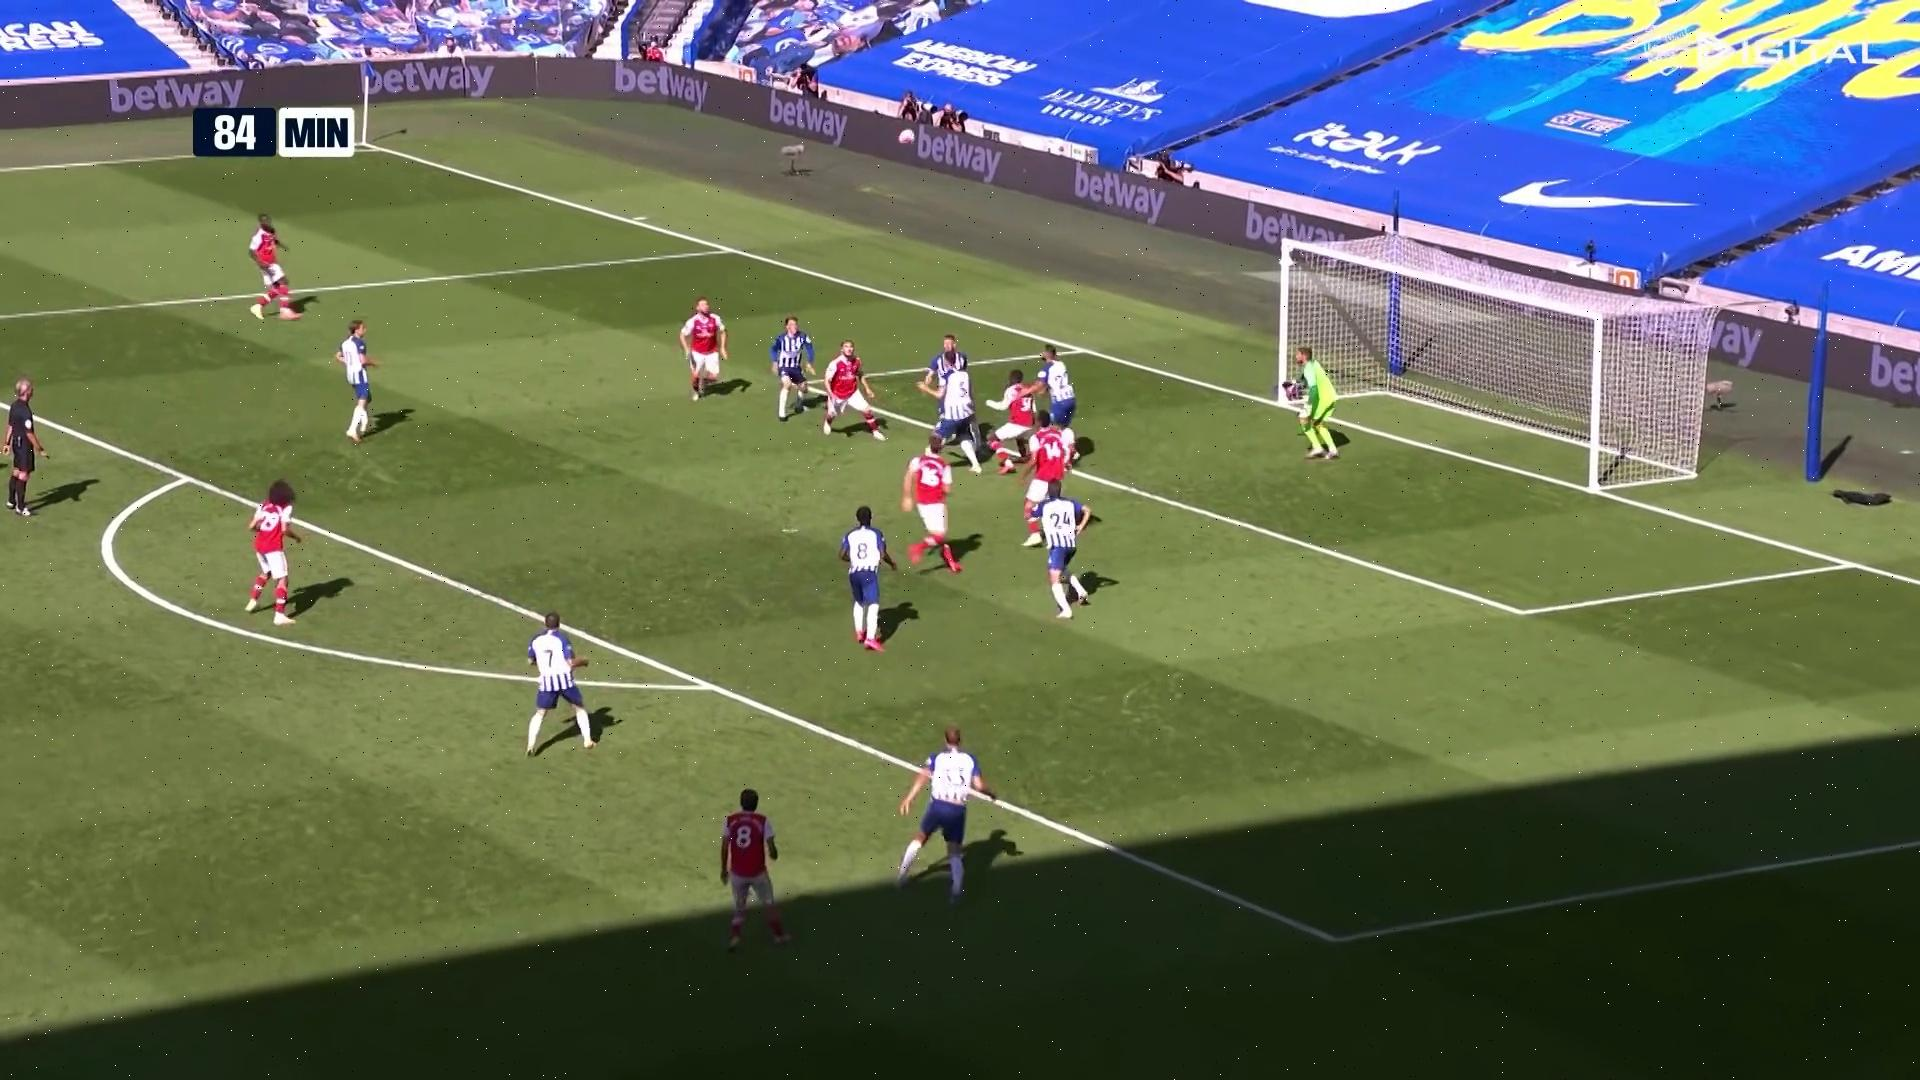ball: (899, 129, 916, 146)
